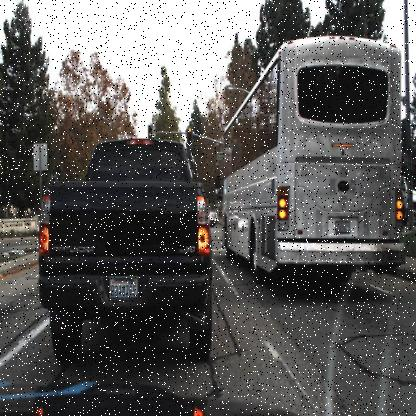car: (43, 138, 210, 354), (209, 205, 219, 228), (209, 209, 218, 228)
trafficLight: (148, 124, 152, 140), (50, 174, 57, 182)
trafficLight-Red: (186, 126, 193, 146)
truck: (220, 40, 404, 288), (402, 159, 415, 231)
